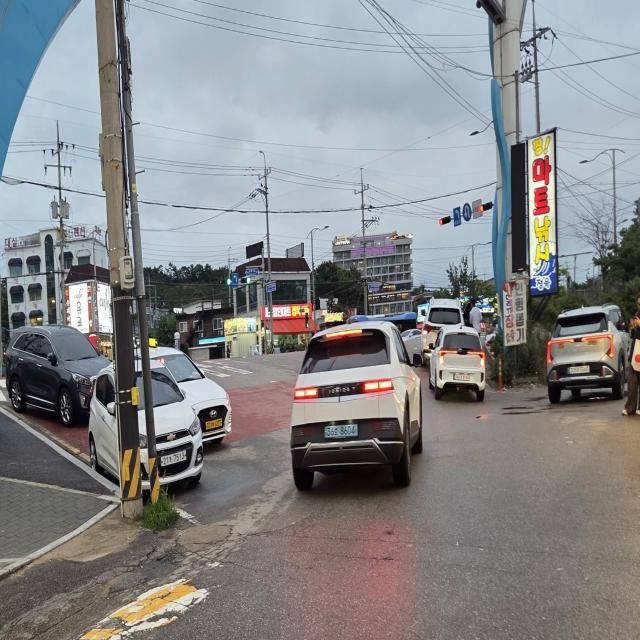car: (278, 310, 424, 509), (86, 355, 208, 510), (0, 315, 119, 444), (121, 329, 242, 453), (542, 295, 632, 415), (425, 314, 490, 403), (424, 286, 470, 376)
